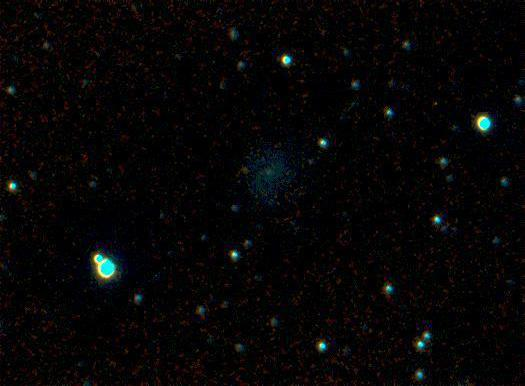star: (229, 156, 259, 186)
